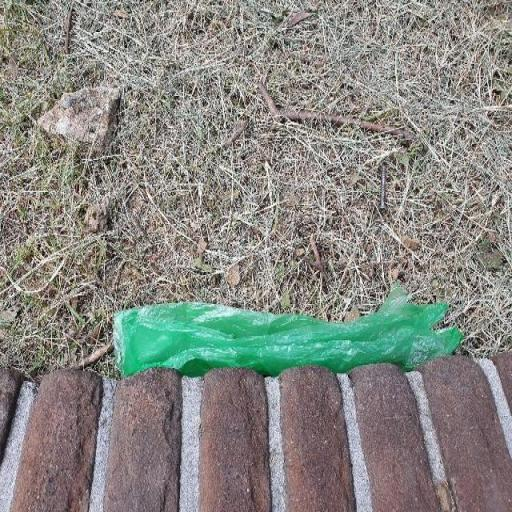plastic-bag: (110, 284, 465, 374)
